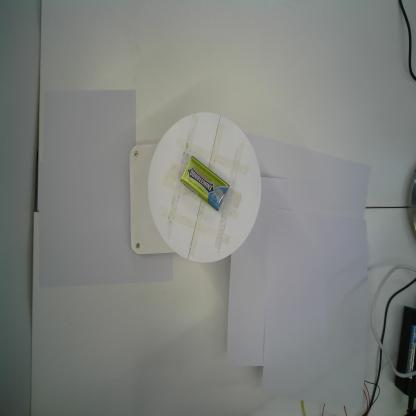Gum: (180, 155, 231, 212)
